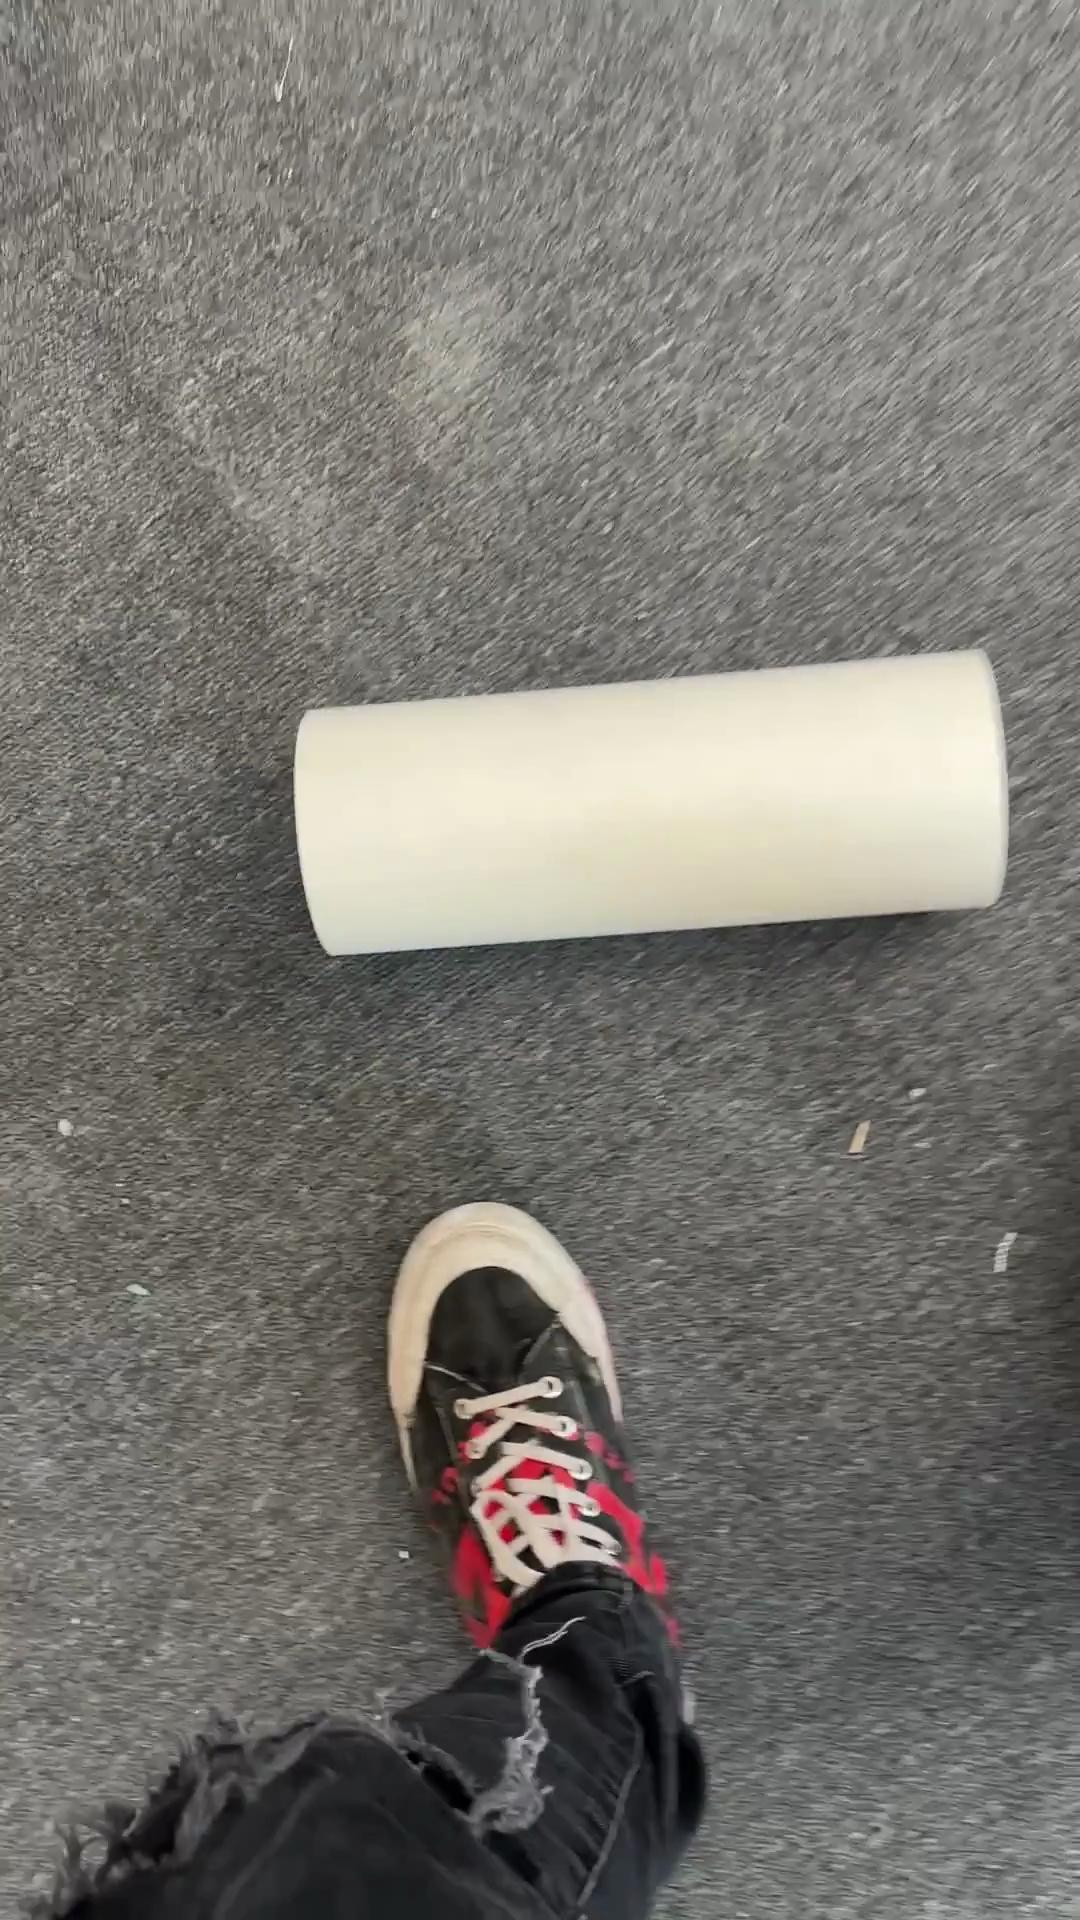CORAL: (290, 644, 1010, 957)
